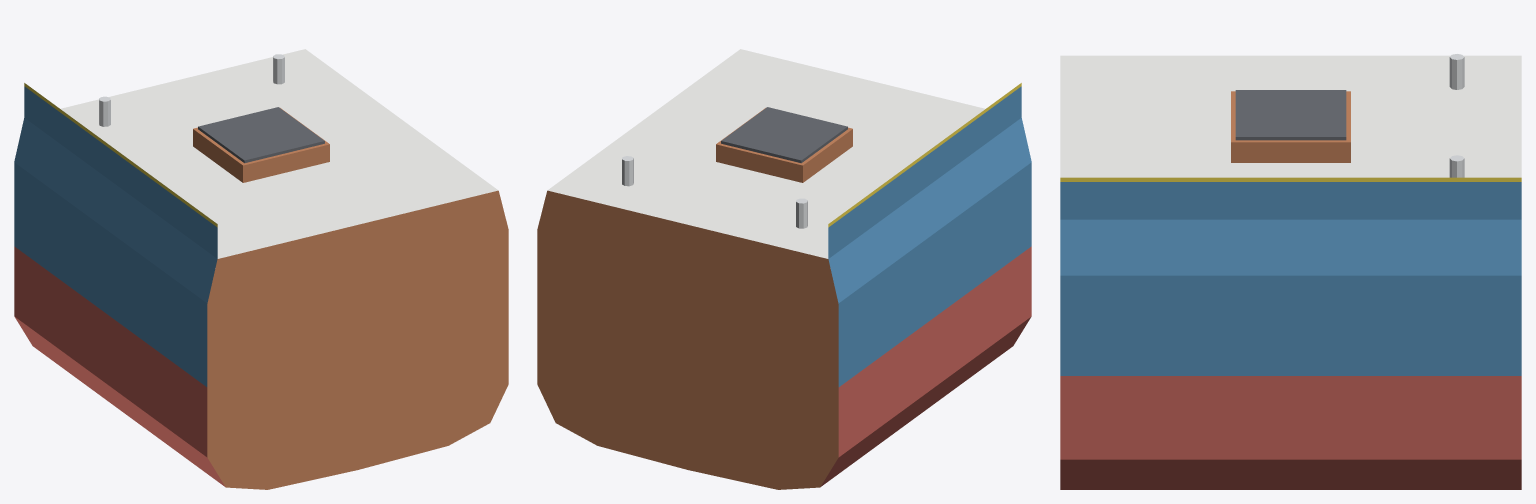
File: shipyard-and-dry-dock-shipyard-and-dry-dock-hull-secti-7513f519__37922.glb
3 views of the same model, side by side, from view 1: azimuth 30°, elevation 25°; view 2: azimuth 150°, elevation 25°; view 3: azimuth 270°, elevation 25° (orthographic). The views are drawn at different scales.
Visible parts, largest first — view 1: shipyard-and-dry-dock-hull-section-midbody; view 2: shipyard-and-dry-dock-hull-section-midbody; view 3: shipyard-and-dry-dock-hull-section-midbody.
Boxes of the visible parts, x1=… form: shipyard-and-dry-dock-hull-section-midbody: x1=14, y1=49, x2=508, y2=489; shipyard-and-dry-dock-hull-section-midbody: x1=537, y1=49, x2=1031, y2=489; shipyard-and-dry-dock-hull-section-midbody: x1=1060, y1=54, x2=1521, y2=489.
Size of the model in its own units: 9 by 8 by 10.
